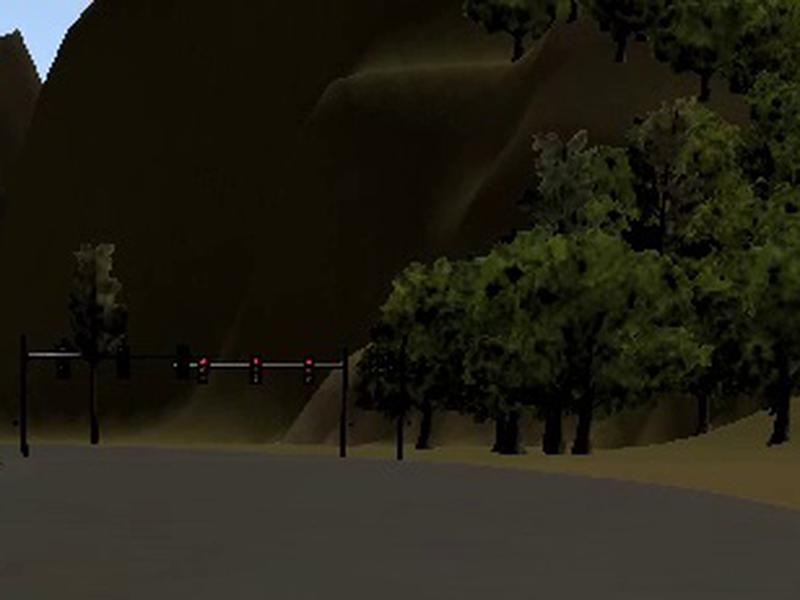Red: (248, 355, 262, 385), (302, 356, 315, 385), (198, 357, 210, 384)
